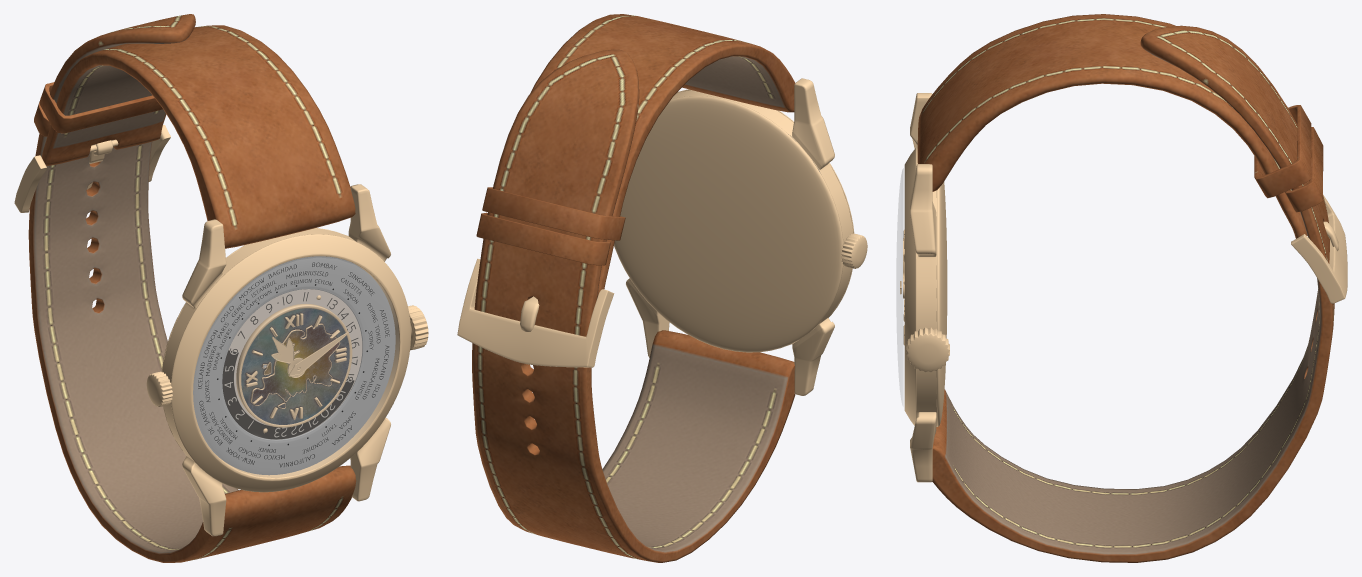
Rendered from watch2.glb.
3 views of the same model, side by side, from view 1: azimuth 30°, elevation 25°; view 2: azimuth 150°, elevation 25°; view 3: azimuth 270°, elevation 25° (orthographic).
Parts seen in each view (by area): view 1: watch, glass; view 2: watch; view 3: watch, glass.
Part boxes in pixels (x1,y1,x2,y2): watch: (14, 14, 428, 562); glass: (195, 258, 399, 477); watch: (457, 14, 867, 562); watch: (900, 14, 1347, 562); glass: (896, 169, 903, 406).
Size of the model in its own units: 0.0583 by 0.1021 by 0.0842.
2 materials, 1 textured.
